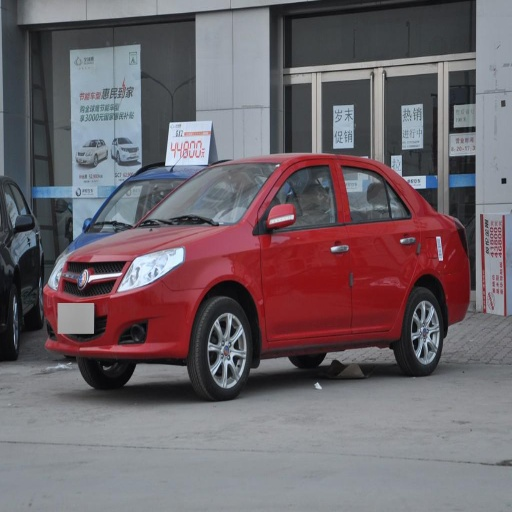front_bumper: (42, 253, 203, 358)
front_glass: (87, 164, 275, 229)
front_left_door: (261, 162, 351, 340)
